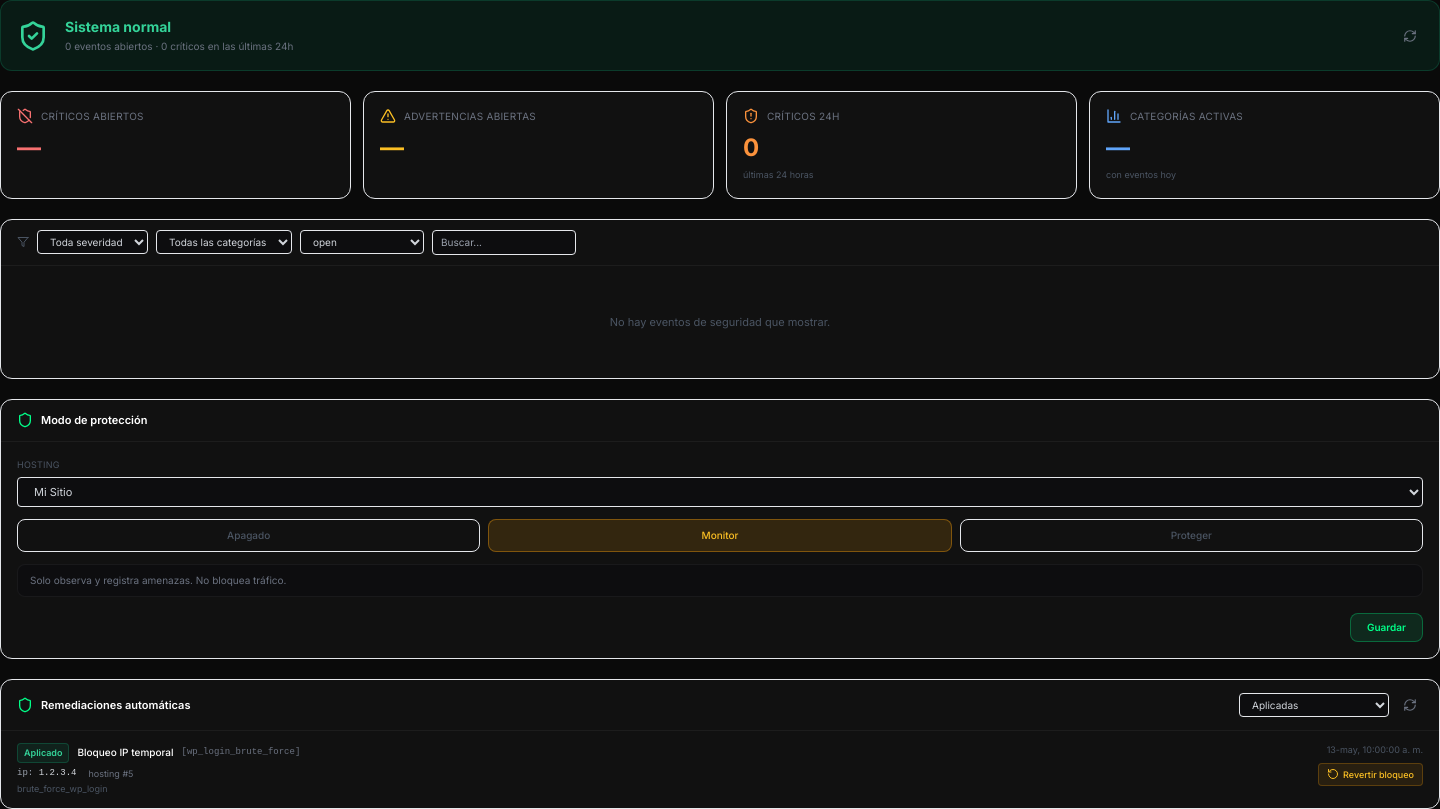
Test case: SecurityCenter — ProtectionModePanel › clicking a mode button changes selection
Click the button with test id "mode-btn-protect": (1191, 536) top-left (960, 519), bottom-right (1423, 552)
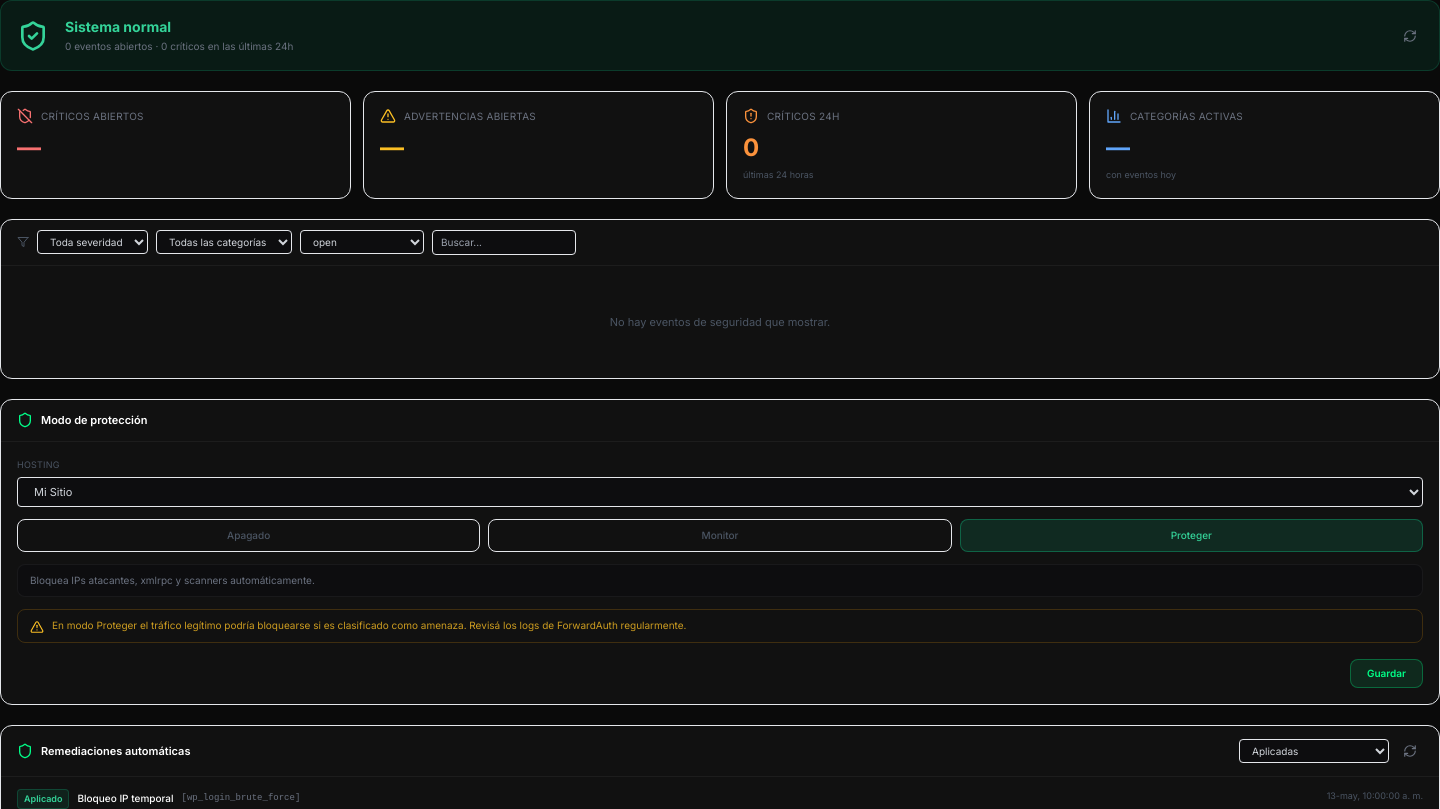
Check: the element with test id "protect-warning" is shown, box top-left (17, 609), bottom-right (1423, 643)
